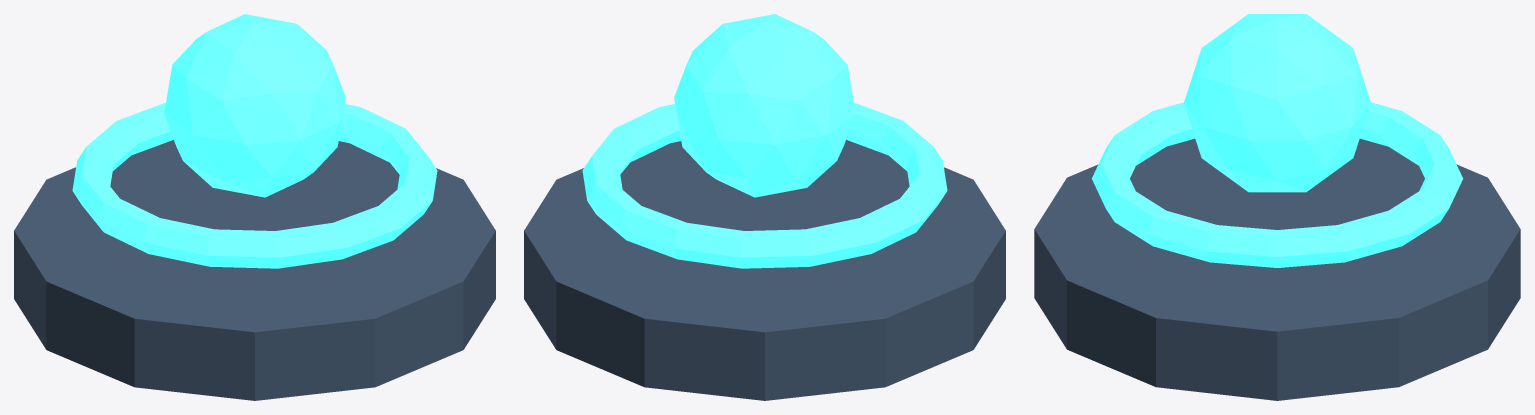
Rendered from synthetic_beacon.glb.
3 views of the same model, side by side, from view 1: azimuth 30°, elevation 25°; view 2: azimuth 150°, elevation 25°; view 3: azimuth 270°, elevation 25° (orthographic).
Visible parts, largest first — view 1: SyntheticBeaconBase, SyntheticBeaconCore, SyntheticBeaconRing; view 2: SyntheticBeaconBase, SyntheticBeaconCore, SyntheticBeaconRing; view 3: SyntheticBeaconBase, SyntheticBeaconCore, SyntheticBeaconRing.
Boxes of the visible parts, x1=… form: SyntheticBeaconBase: x1=14, y1=140, x2=495, y2=400; SyntheticBeaconCore: x1=164, y1=14, x2=345, y2=197; SyntheticBeaconRing: x1=72, y1=102, x2=437, y2=268; SyntheticBeaconBase: x1=524, y1=140, x2=1005, y2=400; SyntheticBeaconCore: x1=674, y1=14, x2=855, y2=197; SyntheticBeaconRing: x1=582, y1=102, x2=947, y2=268; SyntheticBeaconBase: x1=1034, y1=138, x2=1520, y2=400; SyntheticBeaconCore: x1=1184, y1=14, x2=1370, y2=192; SyntheticBeaconRing: x1=1091, y1=102, x2=1463, y2=267.
Size of the model in its own units: 1.4 by 0.89 by 1.4.
